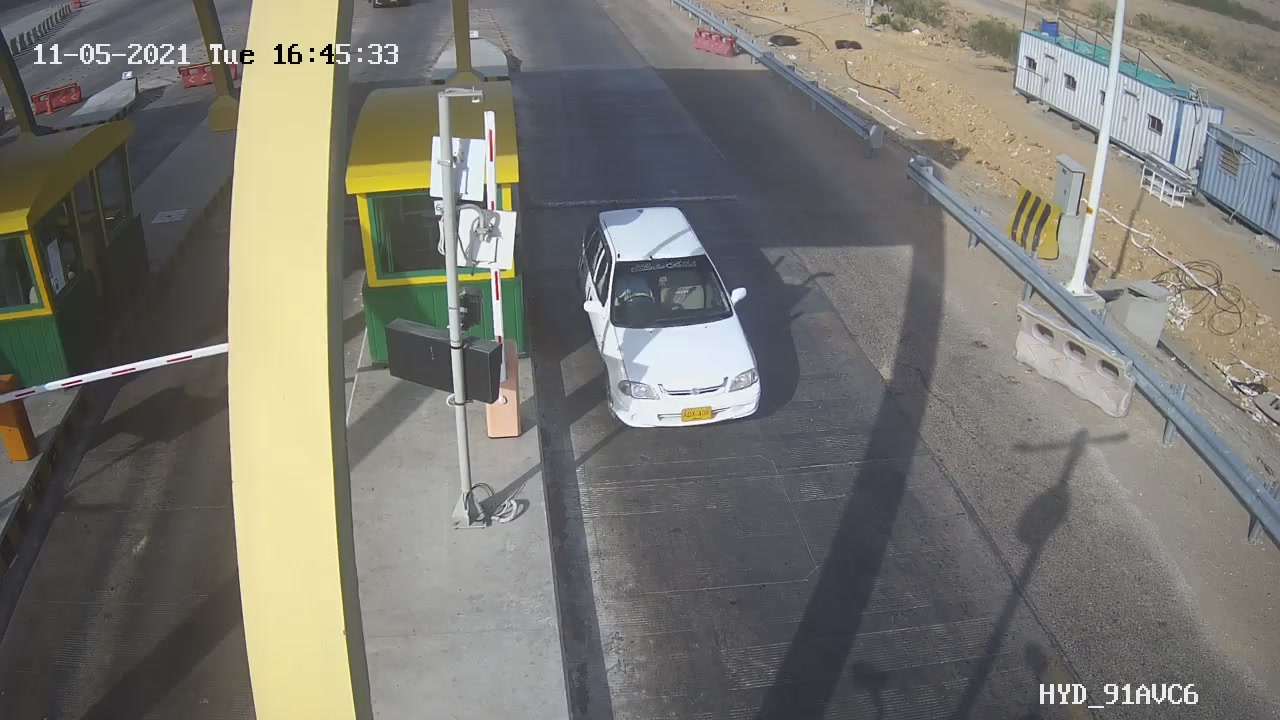F1: (557, 192, 794, 447)
